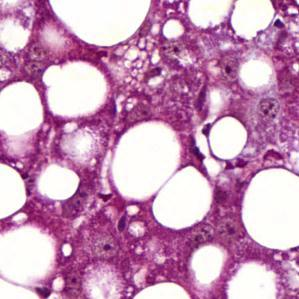steatosis: (151, 168, 220, 236), (205, 113, 254, 159)
